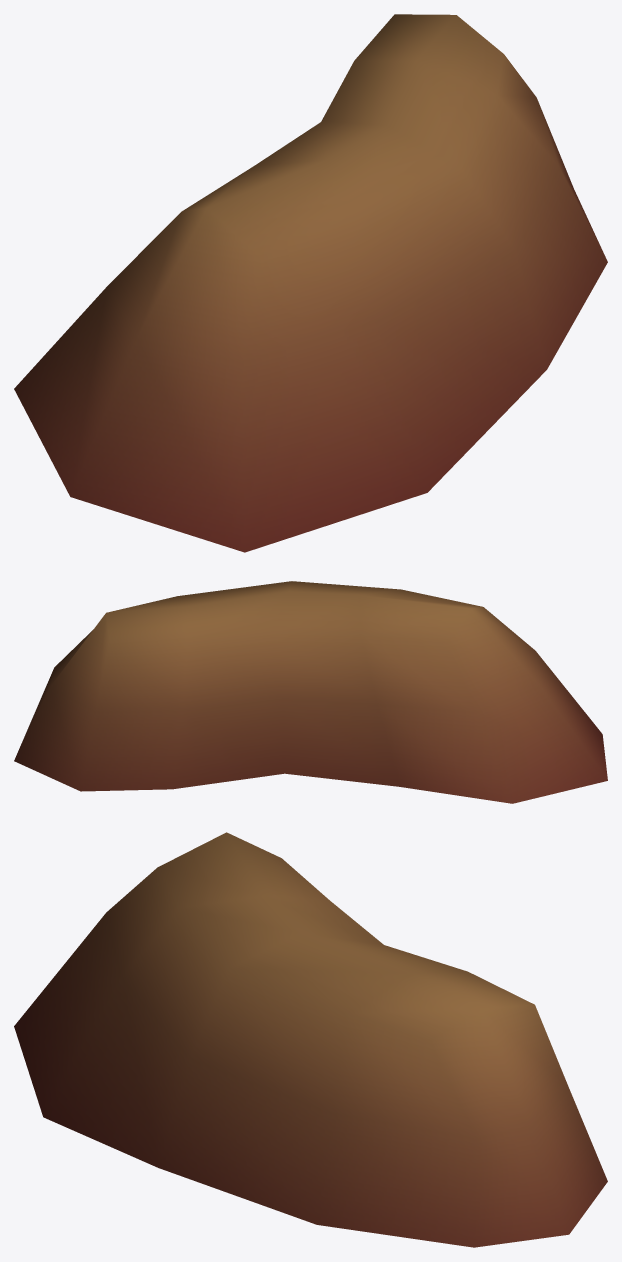
Rendered from Mountain_medium.005.fbx.
3 renders of one model, top to bottom at view 1: azimuth 30°, elevation 25°; view 2: azimuth 150°, elevation 25°; view 3: azimuth 270°, elevation 25°, orthographic. The views are drawn at different scales.
Visible parts, largest first — view 1: Mountain_medium.005; view 2: Mountain_medium.005; view 3: Mountain_medium.005.
Boxes of the visible parts, x1,y1,x2,y2 form: Mountain_medium.005: (14,14,607,552); Mountain_medium.005: (14,581,607,803); Mountain_medium.005: (14,832,607,1247).
Bounding box in the file's own units: 125 × 43.61 × 103.
